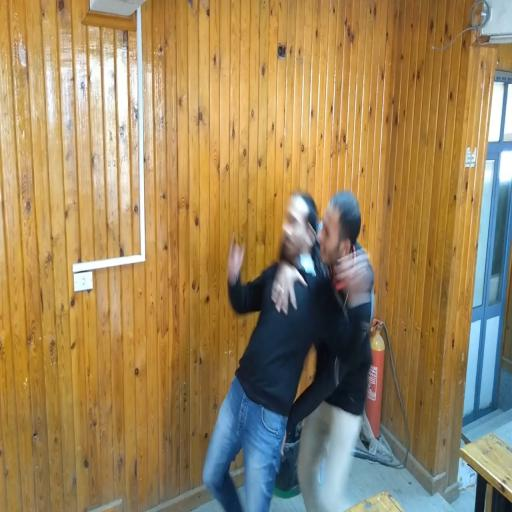violencia: (197, 169, 382, 512)
